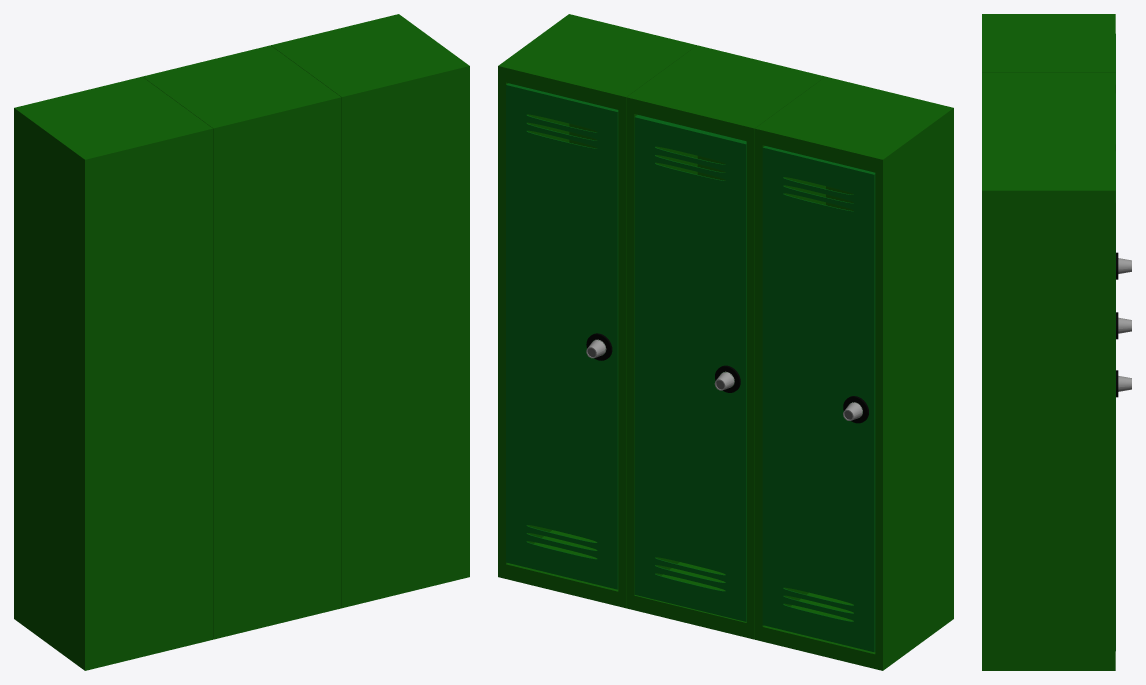
The model's file is Locker.fbx.
The picture shows the model from 3 angles, left to right: view 1: azimuth 30°, elevation 25°; view 2: azimuth 150°, elevation 25°; view 3: azimuth 270°, elevation 25°; orthographic projection. The views are drawn at different scales.
Visible parts, largest first — view 1: Cube.003, Cube, Cube.004; view 2: Cube.003, Cube.002, Cube.001, Cube.005, Cube, Cube.004; view 3: Cube.004, Cube, Cube.003, Cube.005, Cube.002, Cube.001.
Part boxes in pixels (box(x1,y1,x2,y2)): Cube.003: box(14, 76, 212, 670); Cube: box(142, 45, 341, 639); Cube.004: box(271, 14, 469, 608); Cube.003: box(755, 76, 953, 670); Cube.002: box(762, 146, 875, 652); Cube.001: box(634, 115, 746, 621); Cube.005: box(506, 83, 618, 589); Cube: box(626, 45, 825, 639); Cube.004: box(498, 14, 696, 608); Cube.004: box(982, 131, 1115, 670); Cube: box(982, 73, 1115, 131); Cube.003: box(982, 14, 1115, 72); Cube.005: box(1115, 151, 1131, 650); Cube.002: box(1115, 34, 1131, 279); Cube.001: box(1115, 93, 1131, 339).
Bounding box in the file's own units: 683 × 868 × 245.
